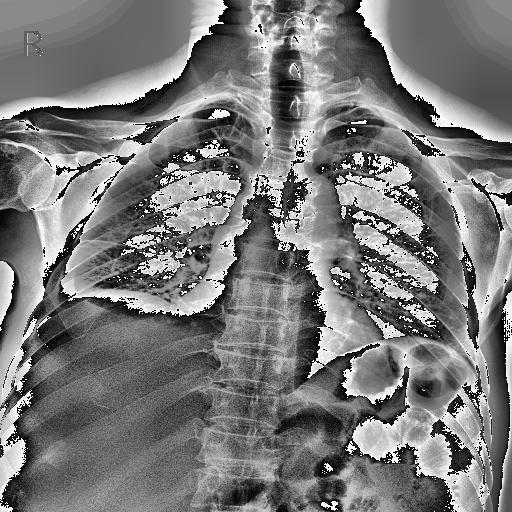0- Aortic enlargement: (280, 168, 346, 238)
10- Pleural effusion: (13, 290, 208, 393), (40, 262, 104, 348), (30, 252, 88, 338)
